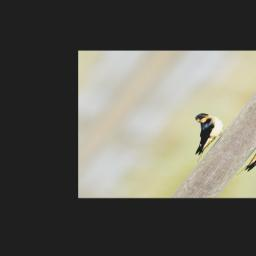Swallow: (166, 110, 235, 164)
